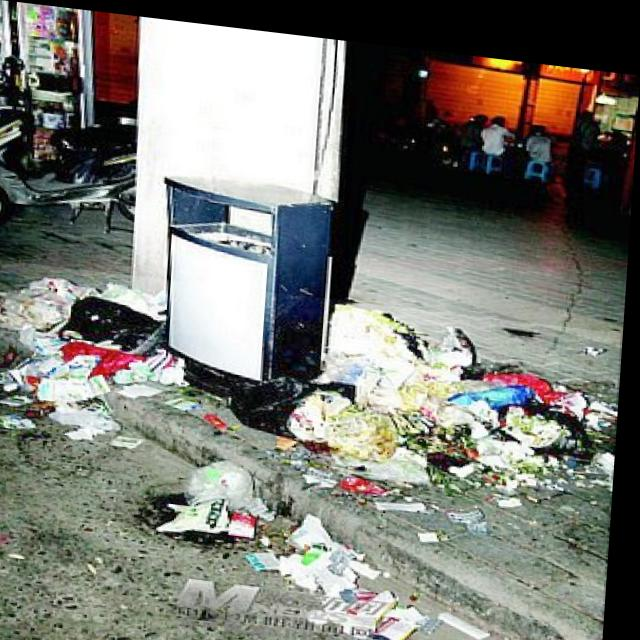garbage: (0, 258, 624, 640)
garbage_bin: (152, 165, 336, 397)
